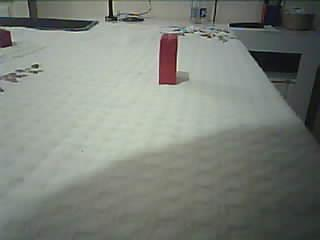lego: (158, 31, 179, 85), (1, 29, 12, 48)
